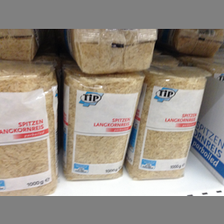rice: (124, 64, 208, 180), (62, 69, 146, 181), (1, 62, 58, 196), (63, 29, 157, 75)
